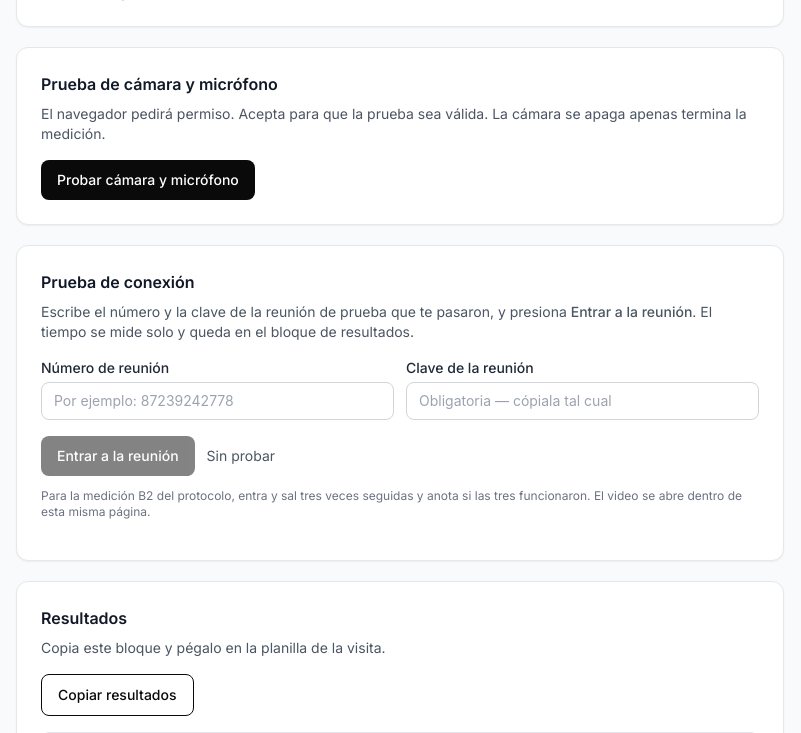
/meet/diag join section — passcode is required › disables the join button while the passcode is empty
This screenshot has width=801, height=733.
(page scrolled)
Expected: the button with test id "diag-join-button" is disabled, [41, 436, 195, 476]
Type "90210042001" into the field with test id "diag-join-meeting-number" at [218, 401], box [41, 382, 394, 420]
(page scrolled)
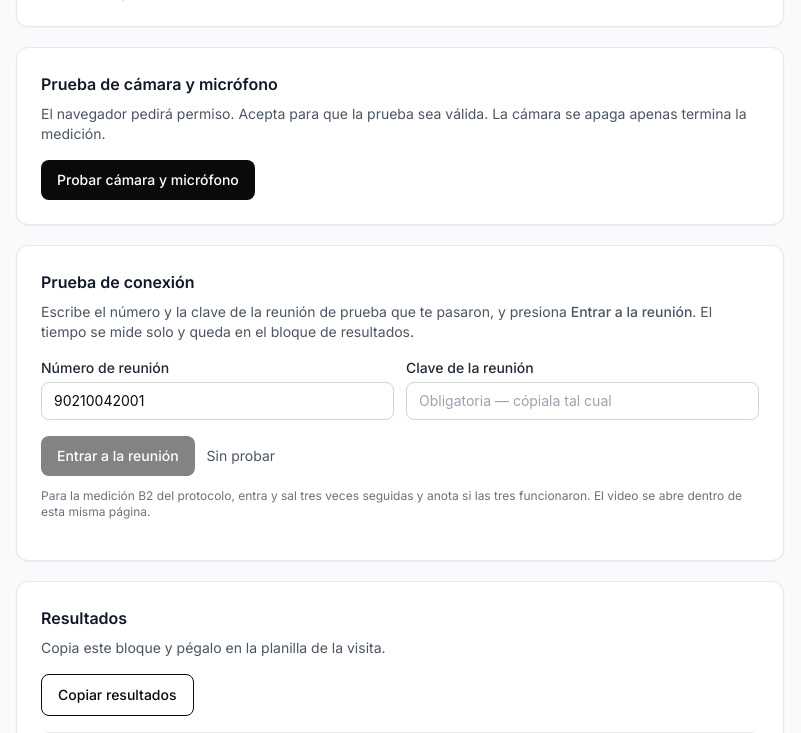
Expected: the button with test id "diag-join-button" is disabled, [41, 436, 195, 476]
Type "clave123" into the field with test id "diag-join-passcode" at [582, 401], box [406, 382, 759, 420]
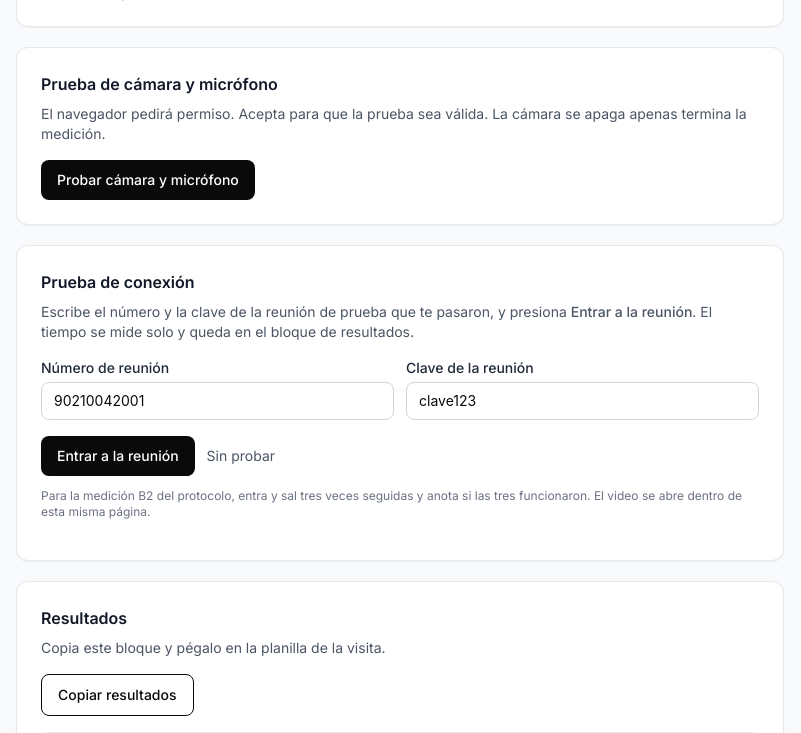
Expected: the button with test id "diag-join-button" is enabled, [41, 436, 195, 476]
